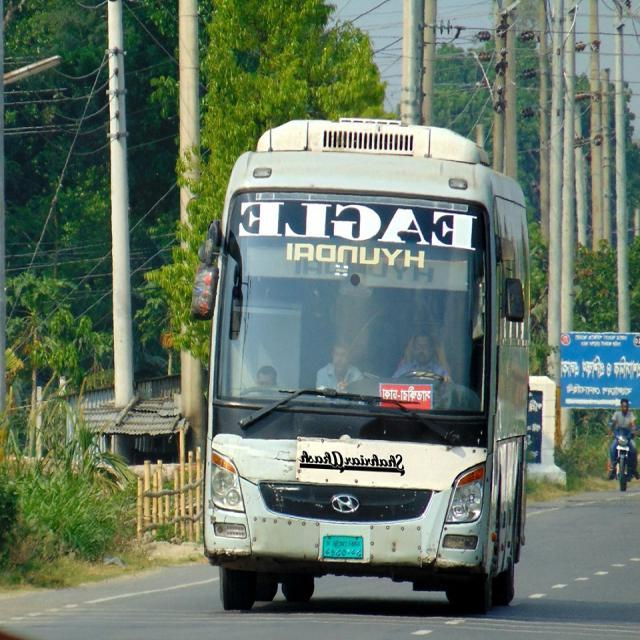Bus: (189, 116, 535, 609)
